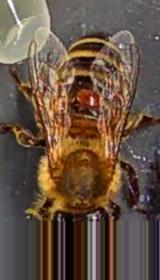varroa_mite: (72, 80, 101, 114)
